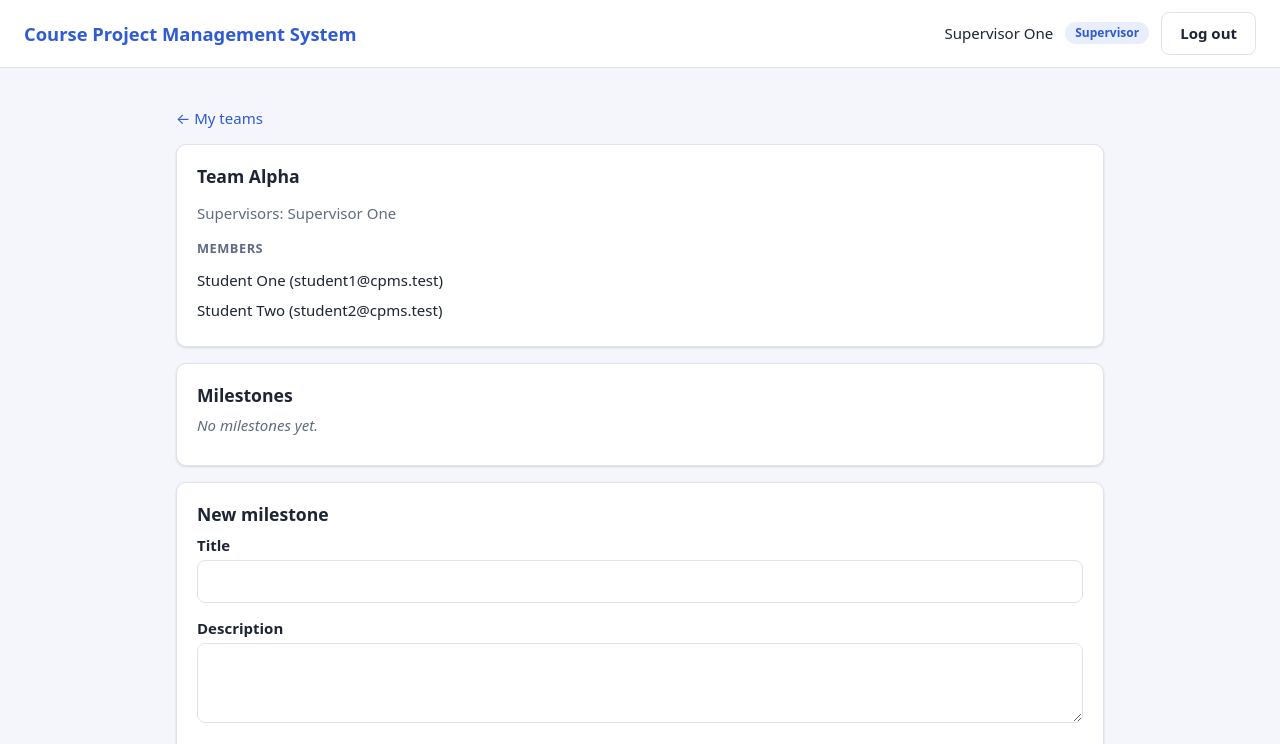
Scenario: F-02 Team view and milestone UI › TEST-02-14: supervisor creates a milestone from the team page and sees it listed
The width and height of the screenshot is (1280, 744).
Expected: the heading "Team Alpha" is shown, [197,164,300,188]
Expected: the text "No milestones yet." is shown, [197,416,318,436]
Type "Design review" into the field labelled "Title".
click(640, 581); type("Design review")  # box [197,560,1083,603]
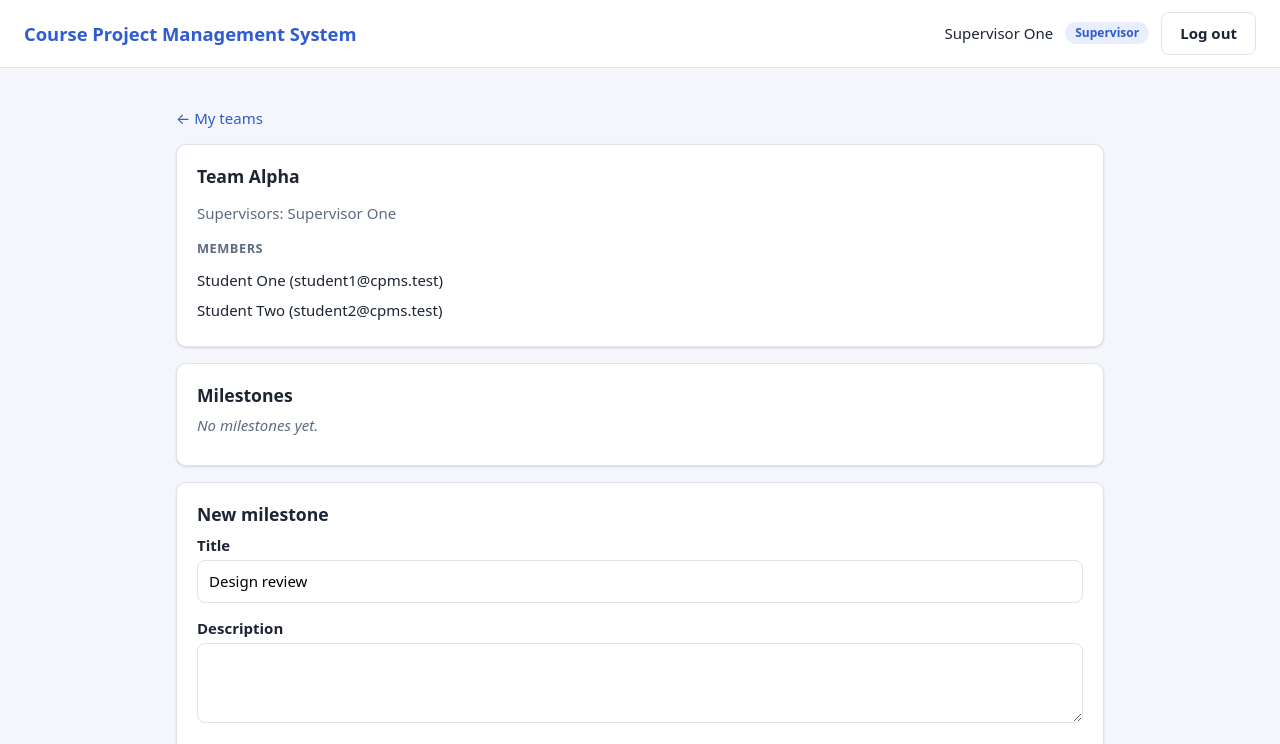
Type "Bring the SDS" into the text box labelled "Description".
click(640, 683); type("Bring the SDS")  # box [197,643,1083,723]
(page scrolled)
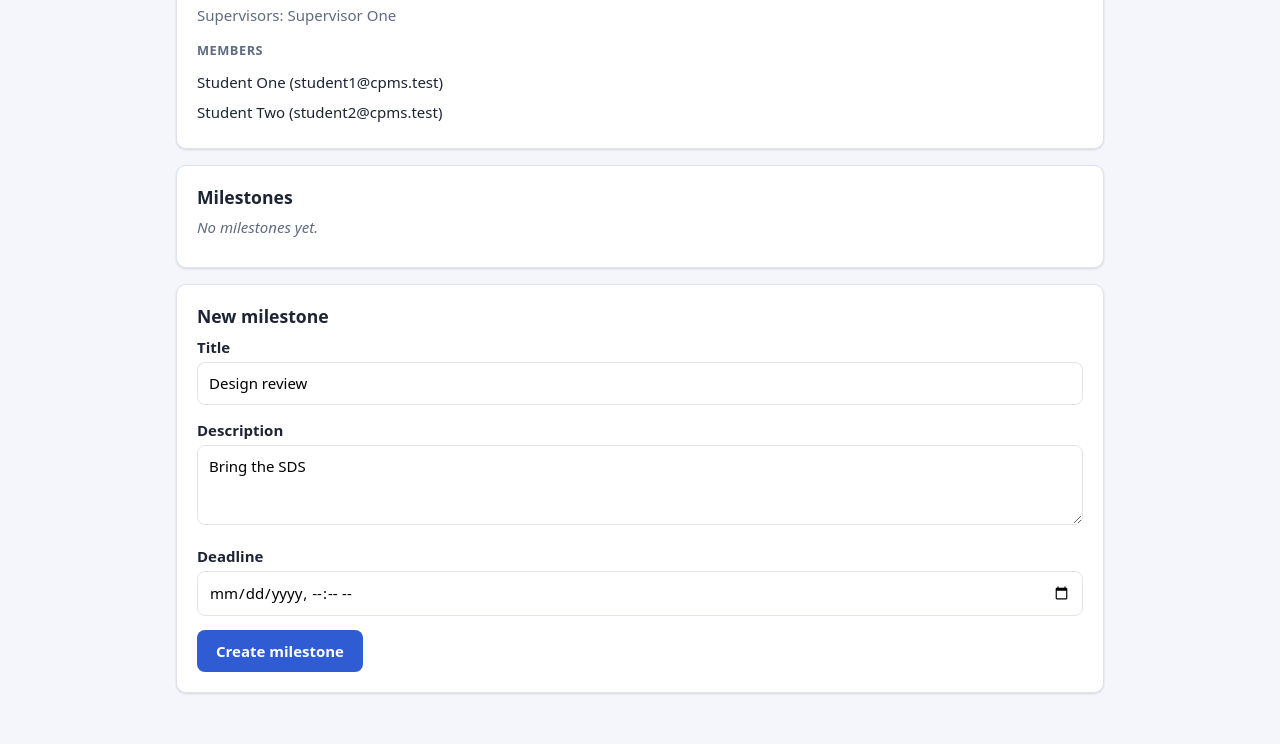
Type "2026-12-01T10:00" into the field labelled "Deadline".
click(640, 593); type("2026-12-01T10:00")  # box [197,571,1083,616]
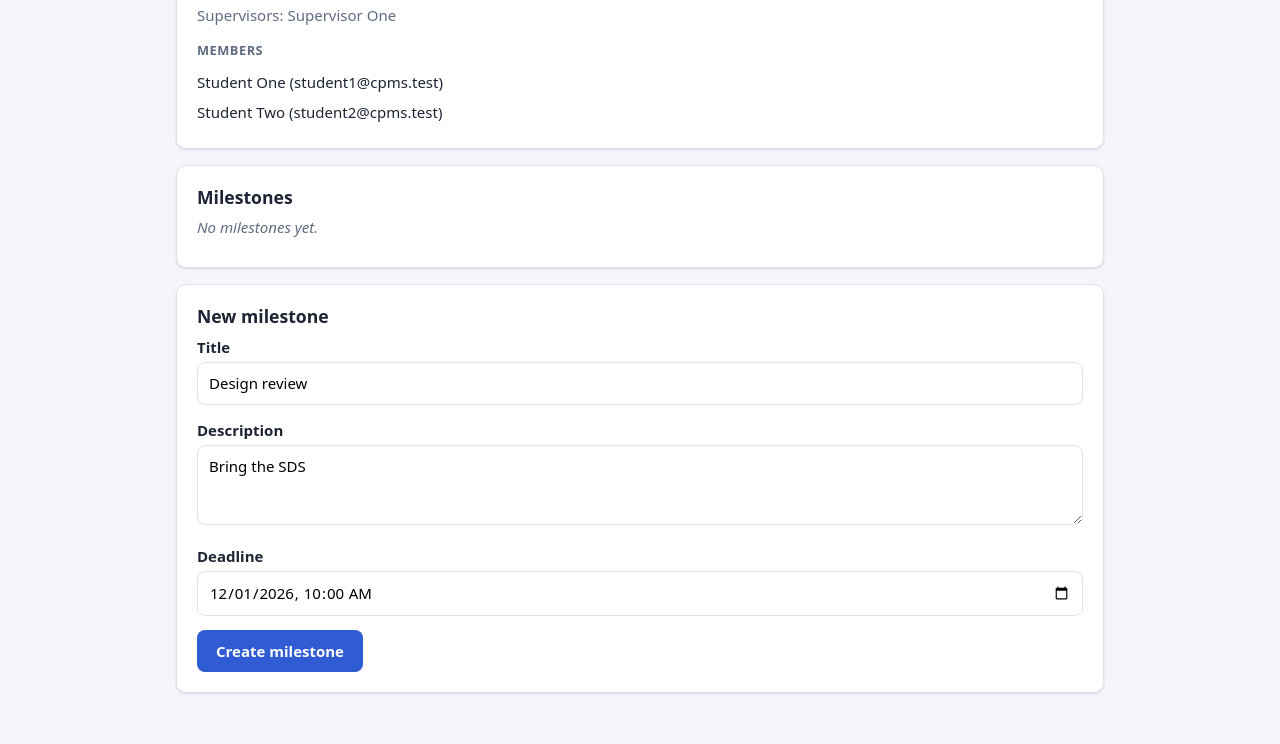
Click the button "Create milestone".
click(280, 651)  # box [197,630,363,672]
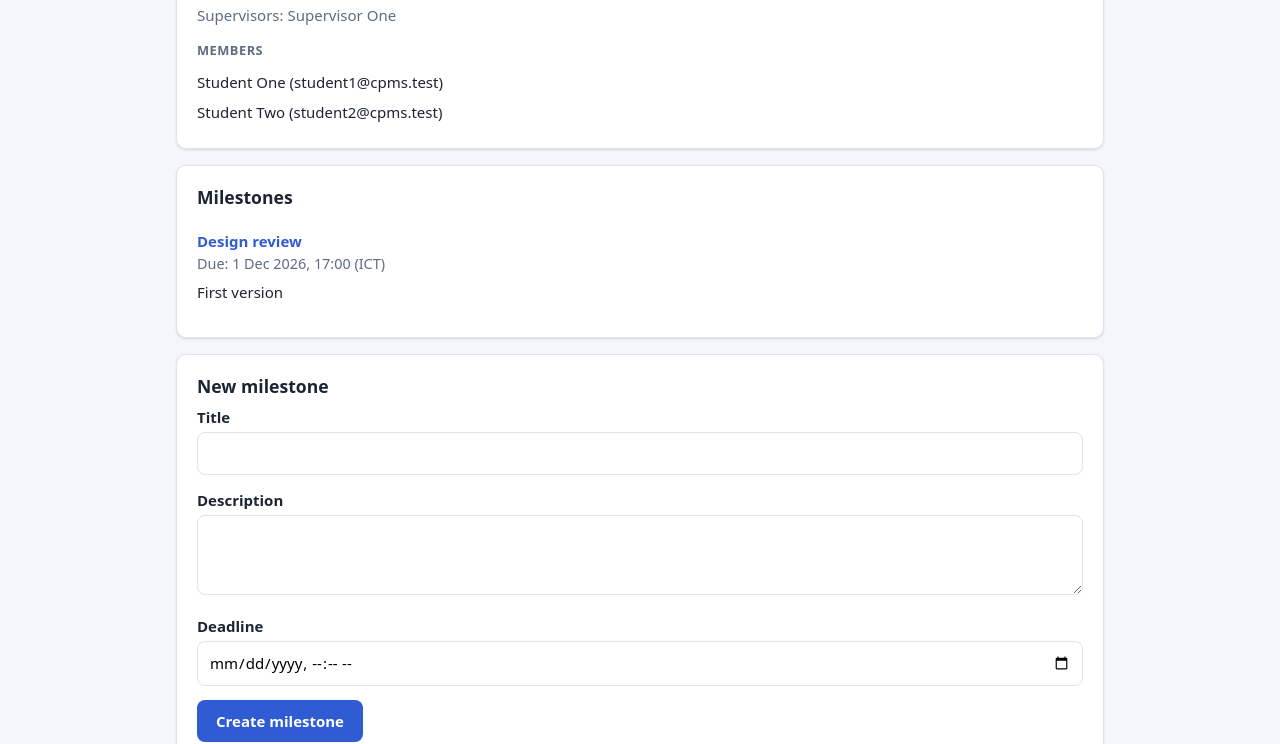
Expected: the link "Design review" is shown, [197,232,302,252]
